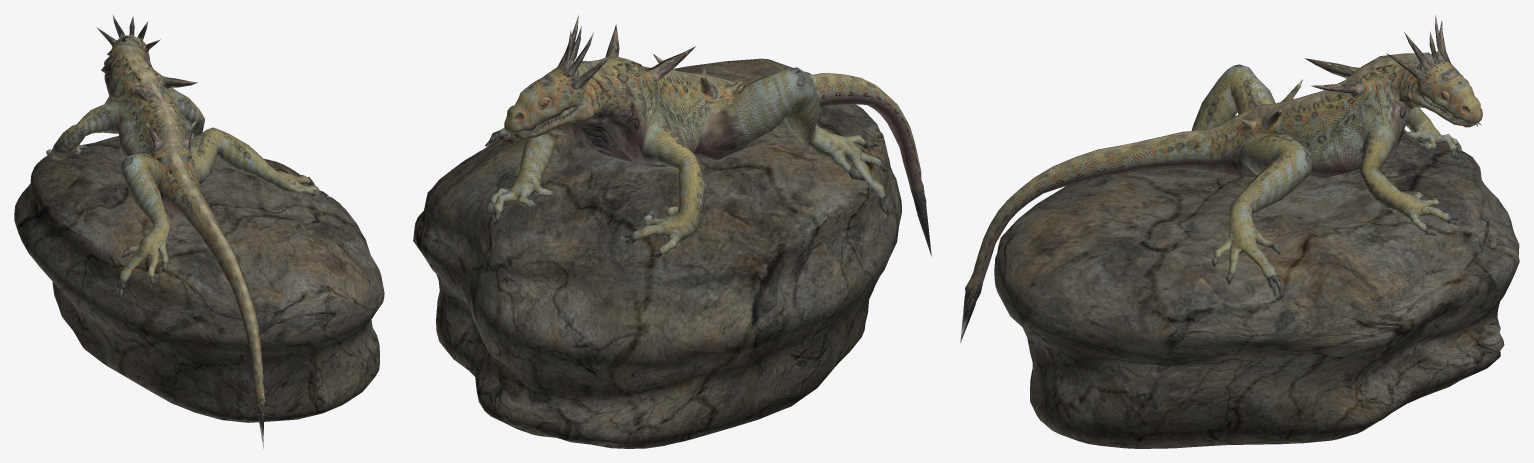
Rendered from lizard (2).fbx.
The picture shows the model from 3 angles, left to right: view 1: azimuth 30°, elevation 25°; view 2: azimuth 150°, elevation 25°; view 3: azimuth 270°, elevation 25°; orthographic projection. The views are drawn at different scales.
Visible parts, largest first — view 1: rock_geo, lizard_geo; view 2: rock_geo, lizard_geo; view 3: rock_geo, lizard_geo.
Boxes of the visible parts, <box> form: rock_geo: <box>14,136,384,422</box>; lizard_geo: <box>46,15,328,448</box>; rock_geo: <box>413,58,901,448</box>; lizard_geo: <box>485,15,931,257</box>; rock_geo: <box>994,134,1519,448</box>; lizard_geo: <box>960,15,1482,342</box>.
Size of the model in its own units: 7.74 by 8.62 by 11.22.
3 materials, 3 textured.
